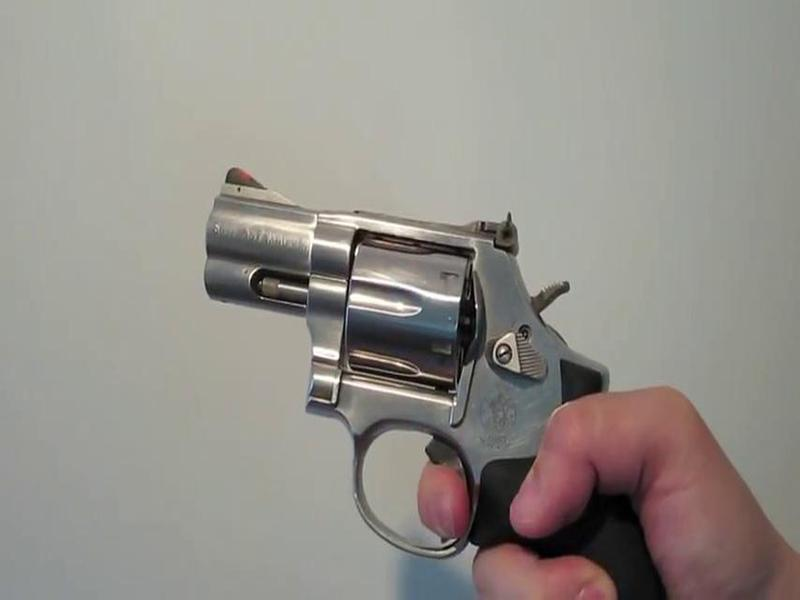Revolver: (177, 122, 632, 556)
